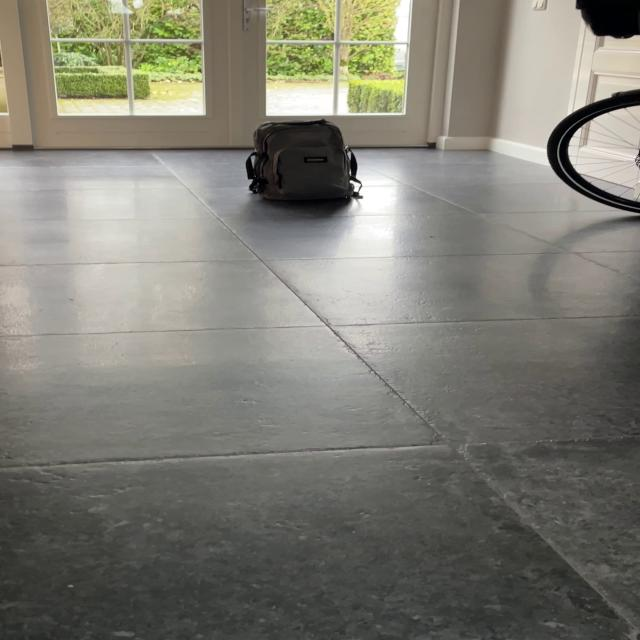backpack: (239, 115, 362, 207)
